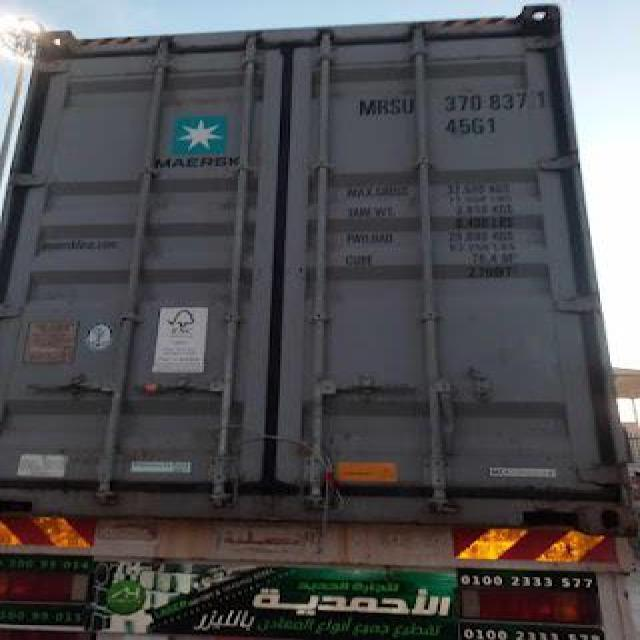ISO: (444, 115, 498, 136)
container_number: (358, 90, 536, 115)
